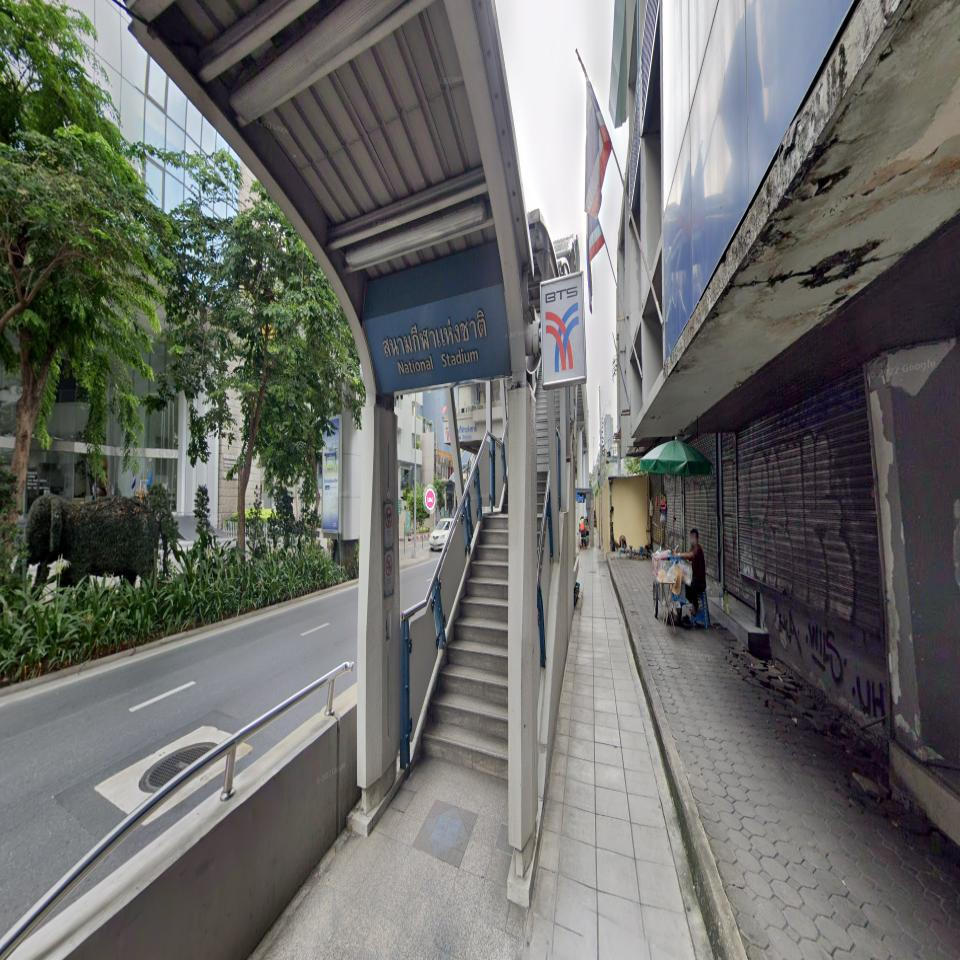signage: (362, 270, 587, 392), (362, 284, 512, 392)
